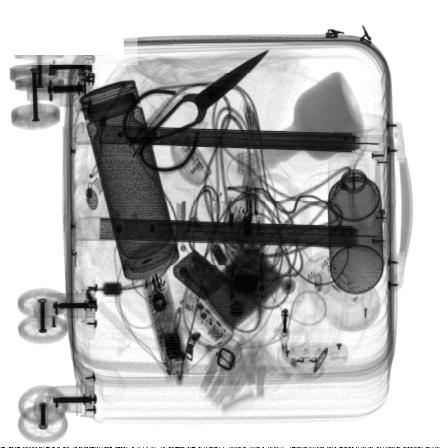Lighter: (173, 251, 225, 299)
Powerbank: (182, 236, 285, 346)
Scissors: (121, 44, 273, 173)
Sprayer: (326, 149, 384, 295)
